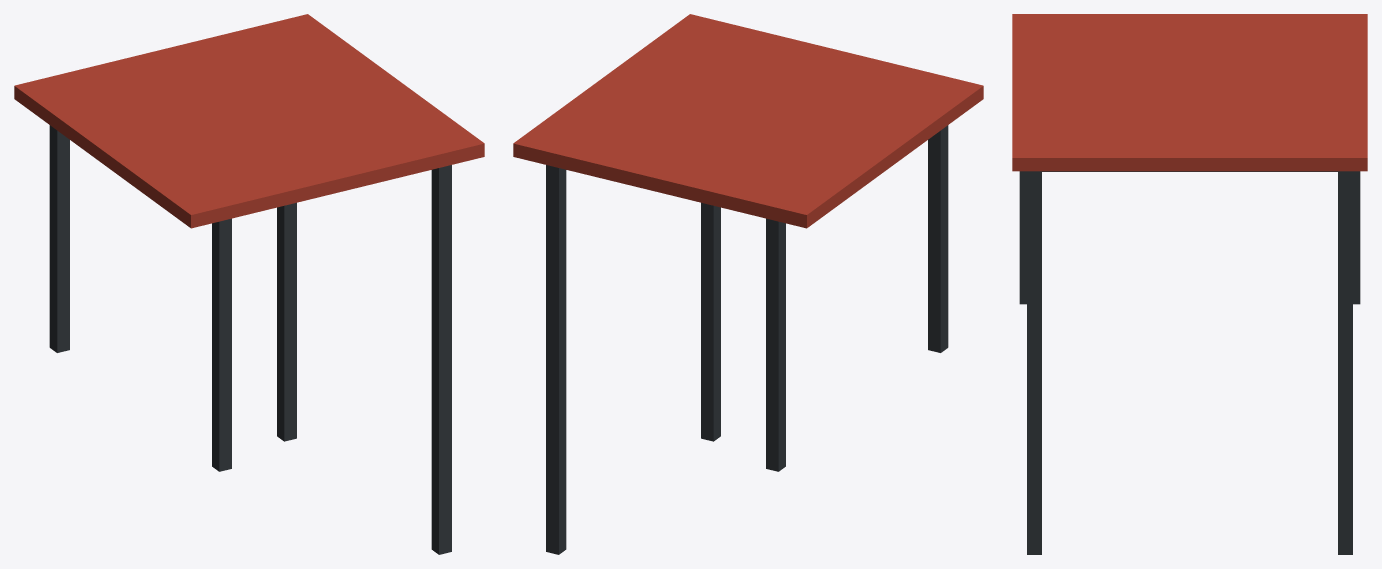
The model's file is trencher_canopy.glb.
3 renders of one model, left to right at view 1: azimuth 30°, elevation 25°; view 2: azimuth 150°, elevation 25°; view 3: azimuth 270°, elevation 25°, orthographic.
Parts seen in each view (by area): view 1: body:compound; view 2: body:compound; view 3: body:compound.
Part boxes in pixels (box(x1,y1,x2,y2)): body:compound: box(14, 14, 484, 554); body:compound: box(513, 14, 983, 554); body:compound: box(1012, 14, 1367, 554).
Size of the model in its own units: 1.44 by 1.91 by 1.5.
